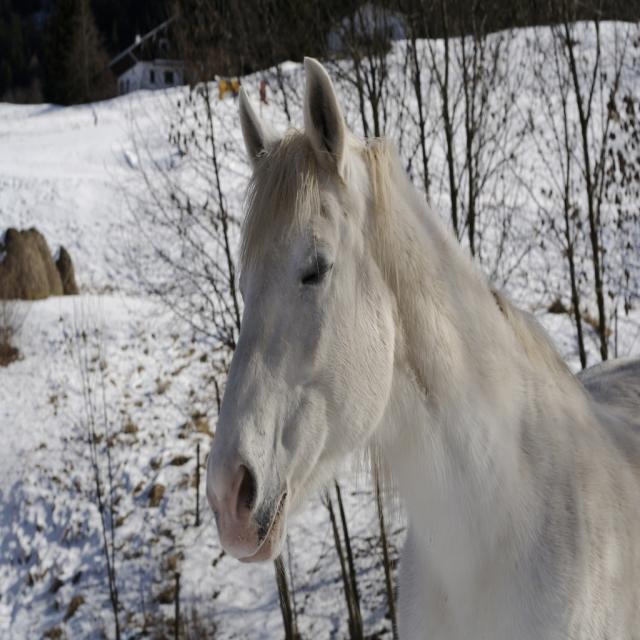Horse: (208, 55, 640, 640)
